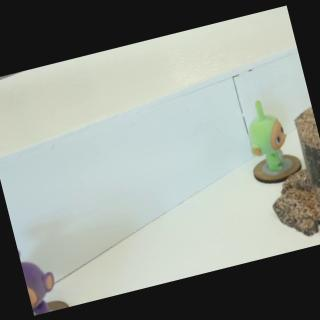teletubby: (248, 100, 284, 170), (20, 261, 52, 315)
